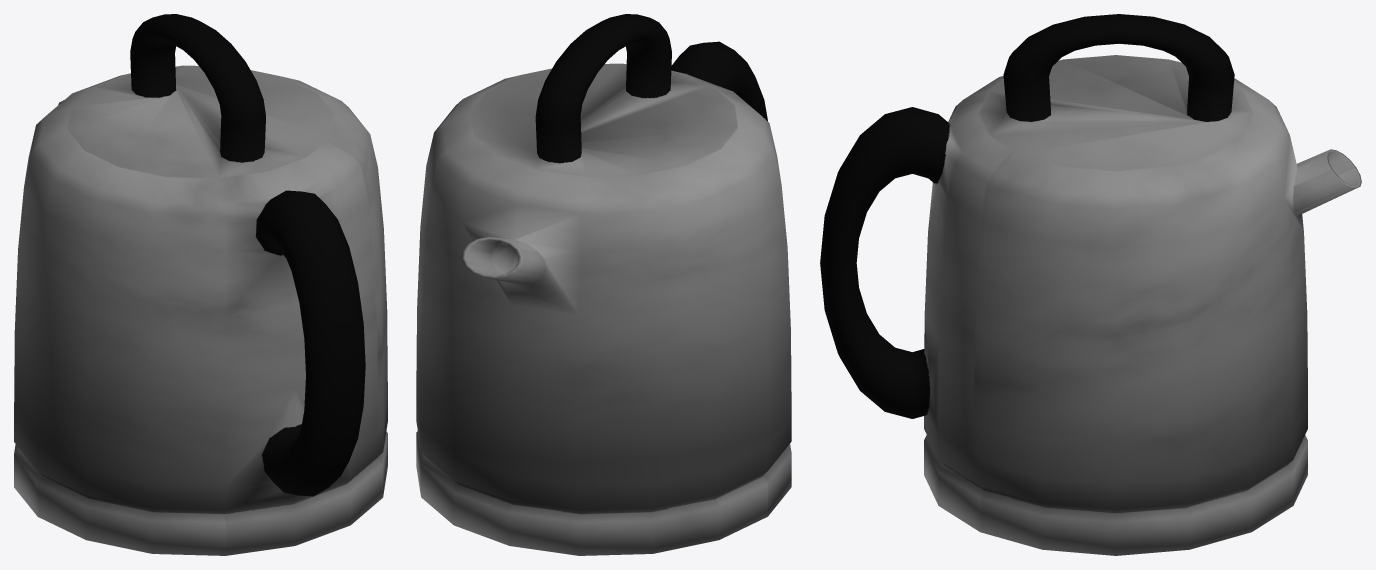
File: Kettle1.fbx
The picture shows the model from 3 angles, left to right: view 1: azimuth 30°, elevation 25°; view 2: azimuth 150°, elevation 25°; view 3: azimuth 270°, elevation 25°; orthographic projection.
Parts seen in each view (by area): view 1: Kettle; view 2: Kettle; view 3: Kettle.
Boxes of the visible parts, x1=… form: Kettle: x1=14, y1=14, x2=387, y2=555; Kettle: x1=416, y1=14, x2=791, y2=555; Kettle: x1=820, y1=14, x2=1361, y2=555.
Size of the model in its own units: 37.8 by 49.56 by 53.29.
